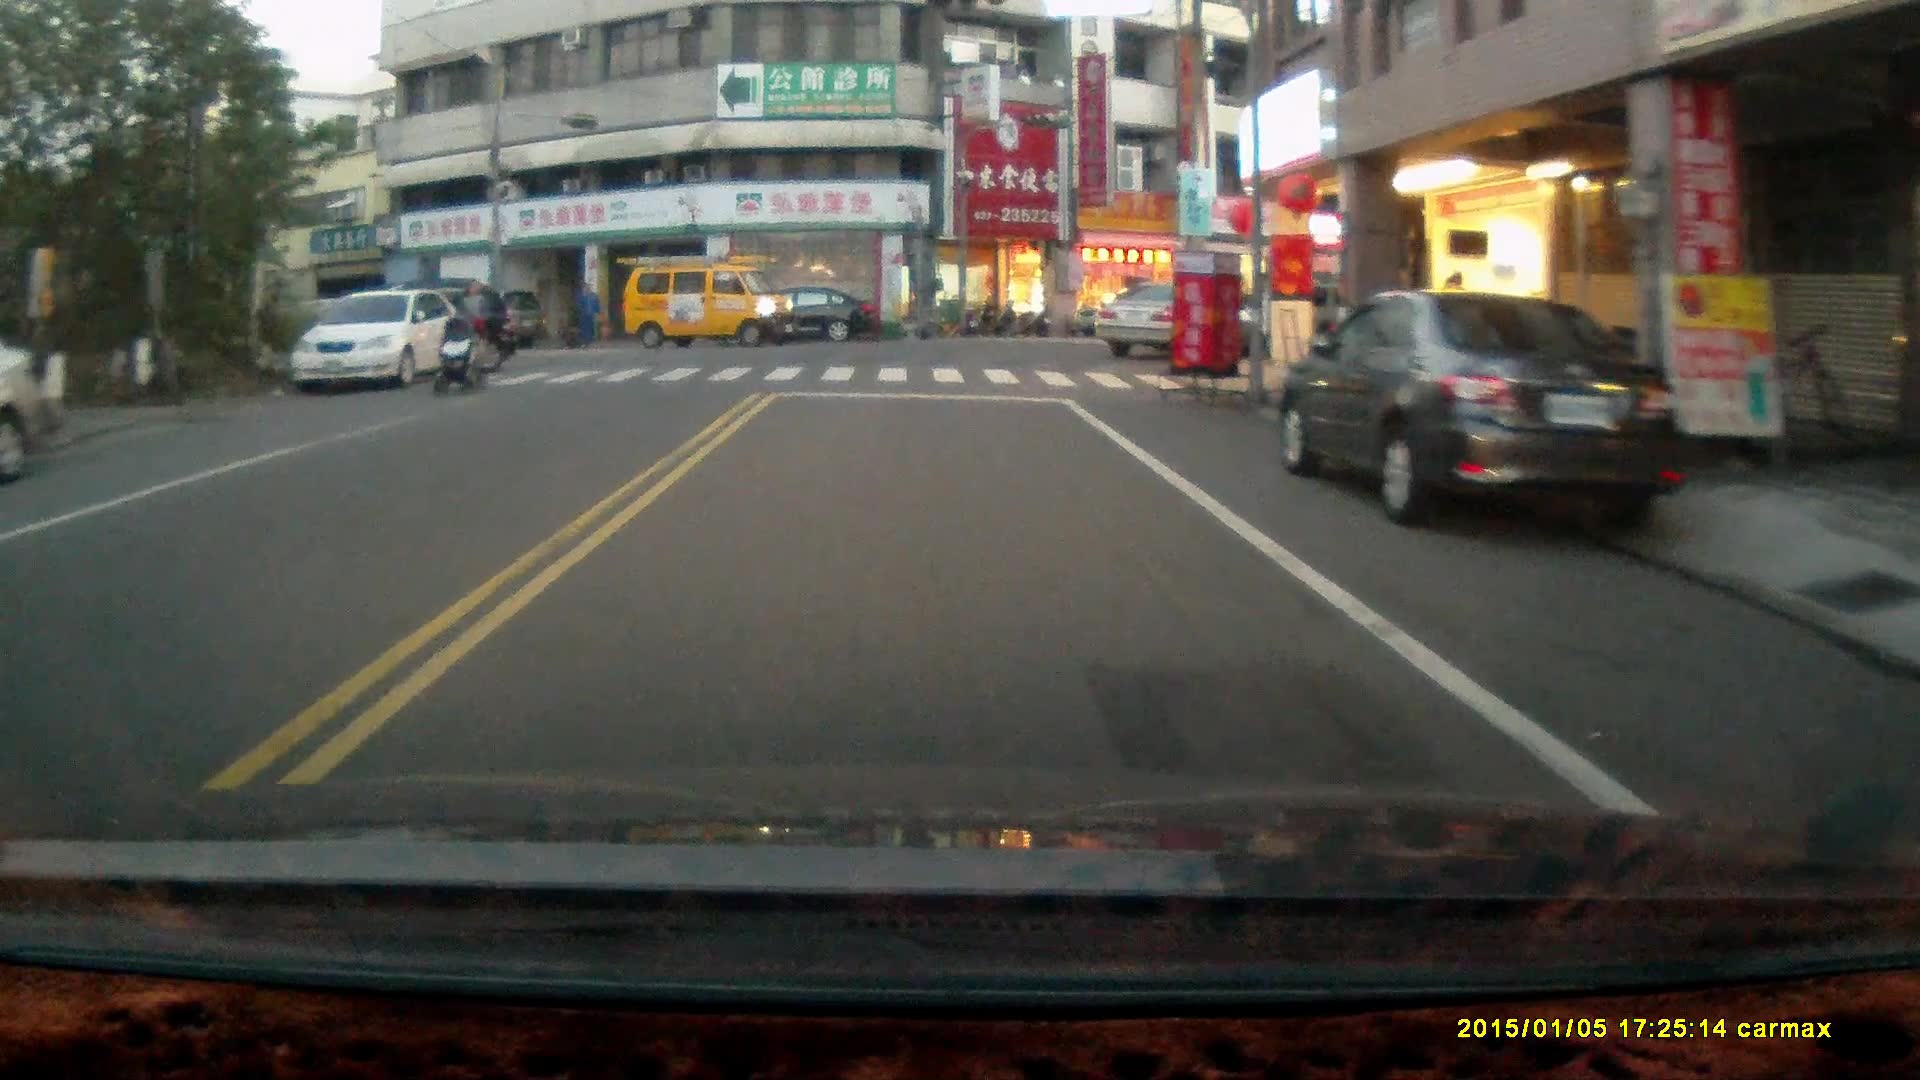pedestrian: (459, 276, 488, 371), (574, 280, 601, 347)
rider: (427, 316, 488, 398)
vehicle: (1279, 291, 1681, 532), (306, 280, 523, 377), (293, 290, 470, 395), (625, 255, 797, 349), (1093, 281, 1240, 359), (738, 286, 883, 351)
